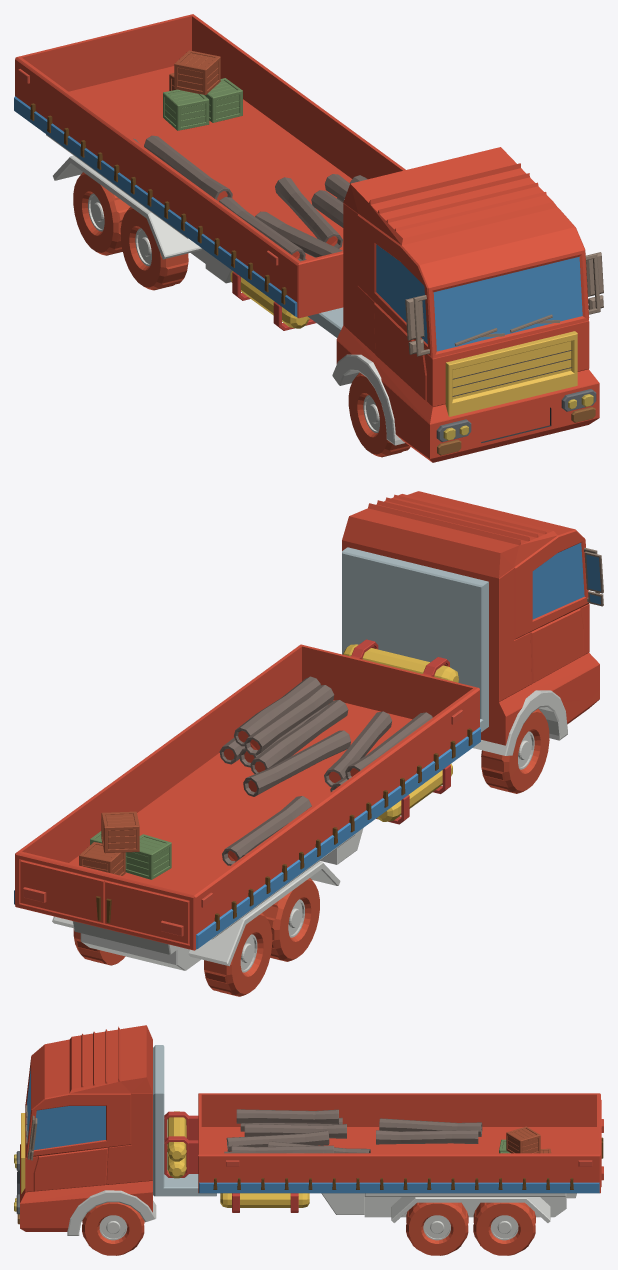
Rendered from truck_a03.gltf.
The picture shows the model from 3 angles, top to bottom: view 1: azimuth 30°, elevation 25°; view 2: azimuth 150°, elevation 25°; view 3: azimuth 270°, elevation 25°; orthographic projection. The views are drawn at different scales.
Visible parts, largest first — view 1: body, wheel_5, wheel_9, wheel_1; view 2: body, wheel_9, wheel_5, wheel_1; view 3: body, wheel_7, wheel_11, wheel_3, wheel_23, wheel_15, wheel_19.
Boxes of the visible parts, x1,y1,x2,y2 form: body: (14,14,603,462); wheel_5: (73,174,113,252); wheel_9: (120,209,160,287); wheel_1: (348,376,387,454); body: (14,491,603,996); wheel_9: (279,880,319,959); wheel_5: (232,915,272,993); wheel_1: (509,712,549,790); body: (14,1025,603,1255); wheel_7: (476,1203,532,1254); wheel_11: (409,1203,465,1254); wheel_3: (85,1203,141,1254); wheel_23: (424,1216,449,1238); wheel_15: (100,1216,125,1238); wheel_19: (492,1216,517,1238).
Size of the model in its own units: 3.29 by 4.07 by 12.11.
Materials: 1 (1 with a texture image).
